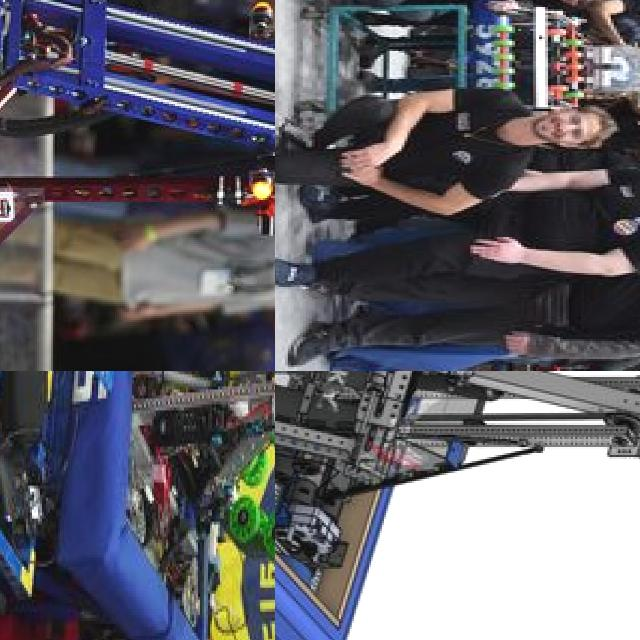FRC-Robots: (0, 0, 275, 371), (275, 371, 640, 640), (9, 371, 275, 640), (465, 0, 640, 141)
